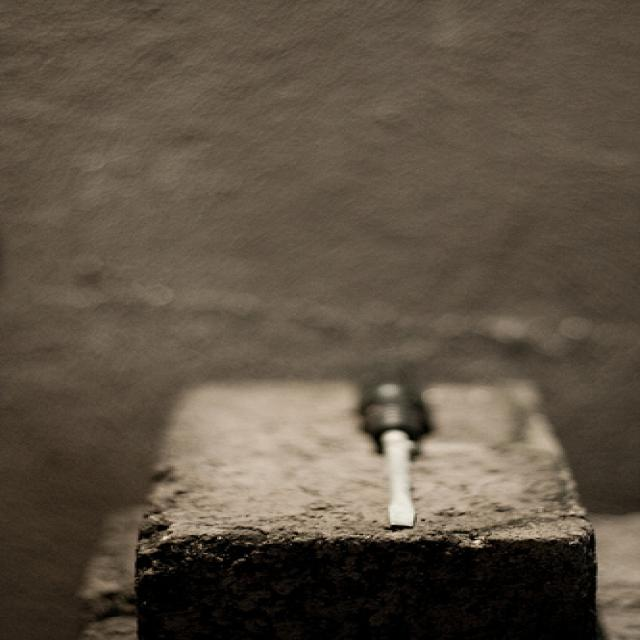screw driver: (327, 354, 451, 554)
